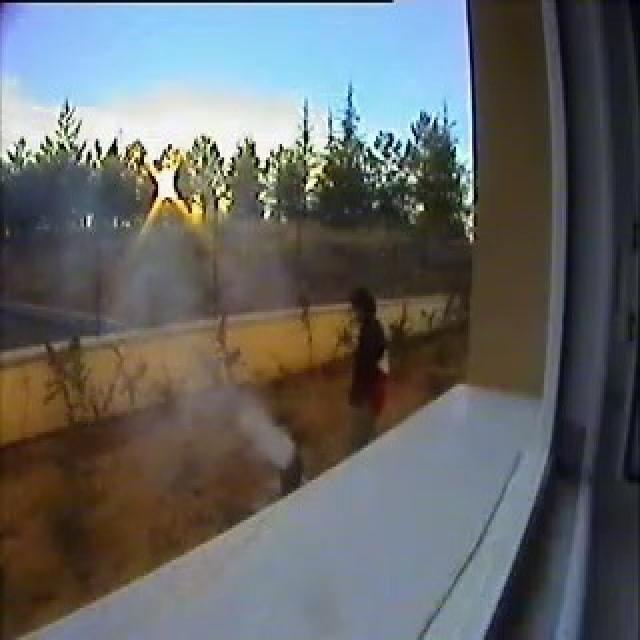smoke: (176, 360, 292, 462)
